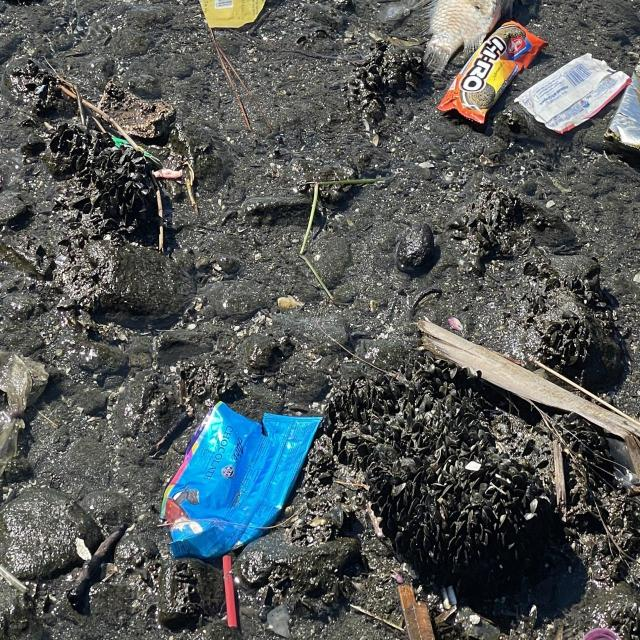plastic_waste: (163, 396, 327, 558), (440, 21, 552, 131), (516, 52, 639, 134), (198, 1, 274, 31)
